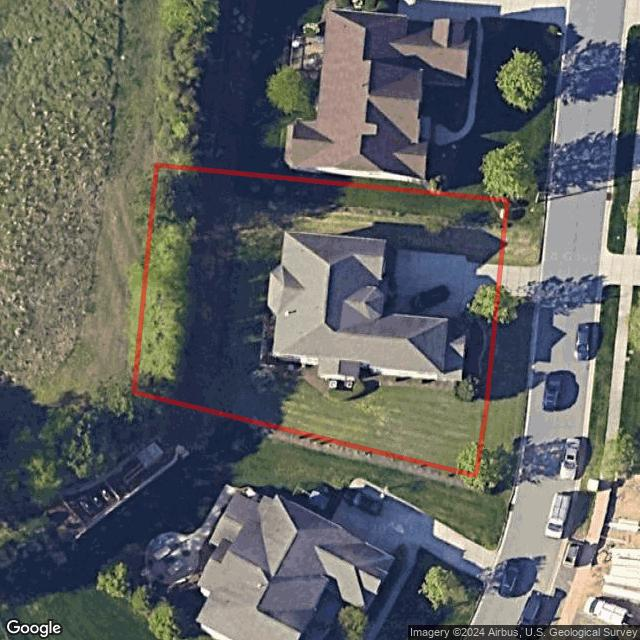Driveway: (382, 249, 502, 320)
Extra-Driveway: (499, 265, 542, 302)
Extra-Lawn: (475, 297, 536, 489), (502, 198, 547, 266)
House: (267, 231, 450, 378)
Lawn: (134, 165, 506, 477)
Other: (254, 309, 485, 403), (134, 165, 191, 401)
